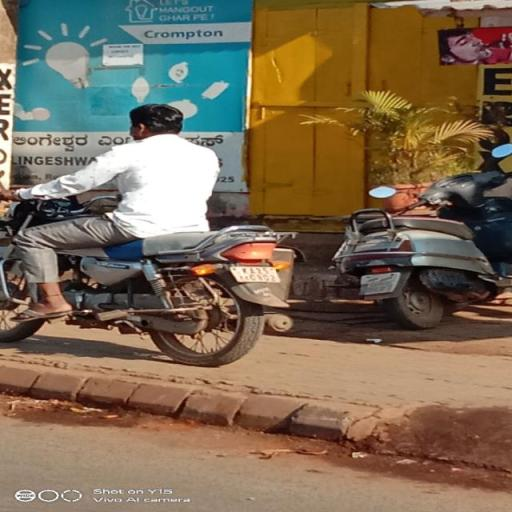bike: (6, 94, 300, 368)
numberplate: (230, 257, 287, 289)
withouthelmet: (131, 104, 182, 136)
